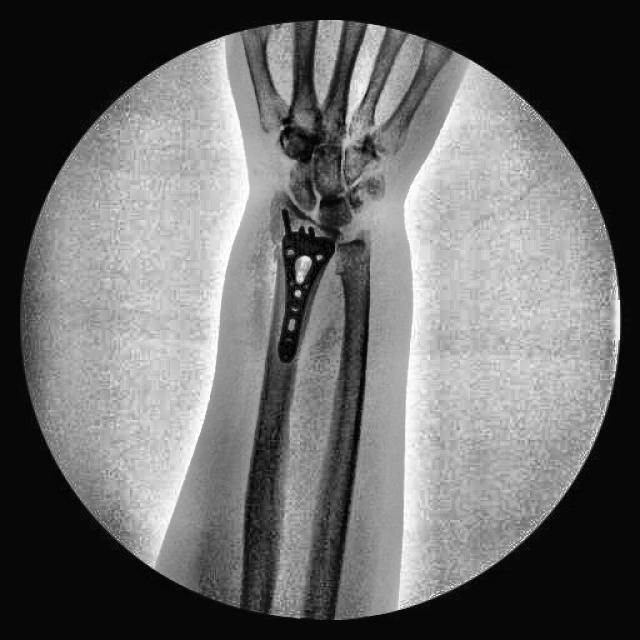wrist positive: (259, 206, 384, 287)
